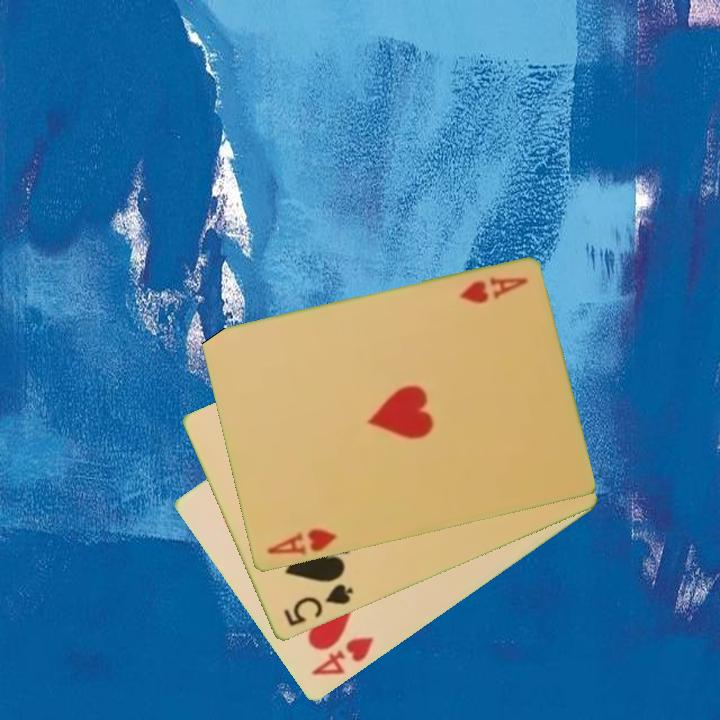4h: (307, 634, 377, 679)
5s: (280, 580, 356, 630)
Ah: (263, 525, 340, 560), (455, 273, 531, 307)
